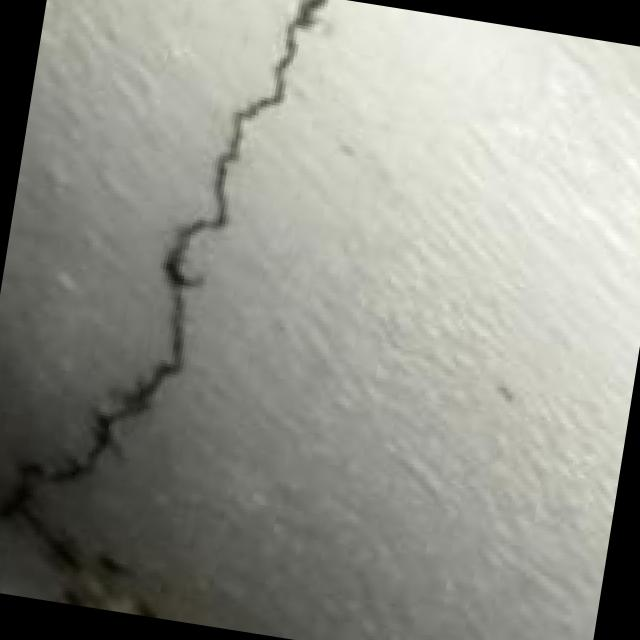crack: (10, 0, 383, 580)
